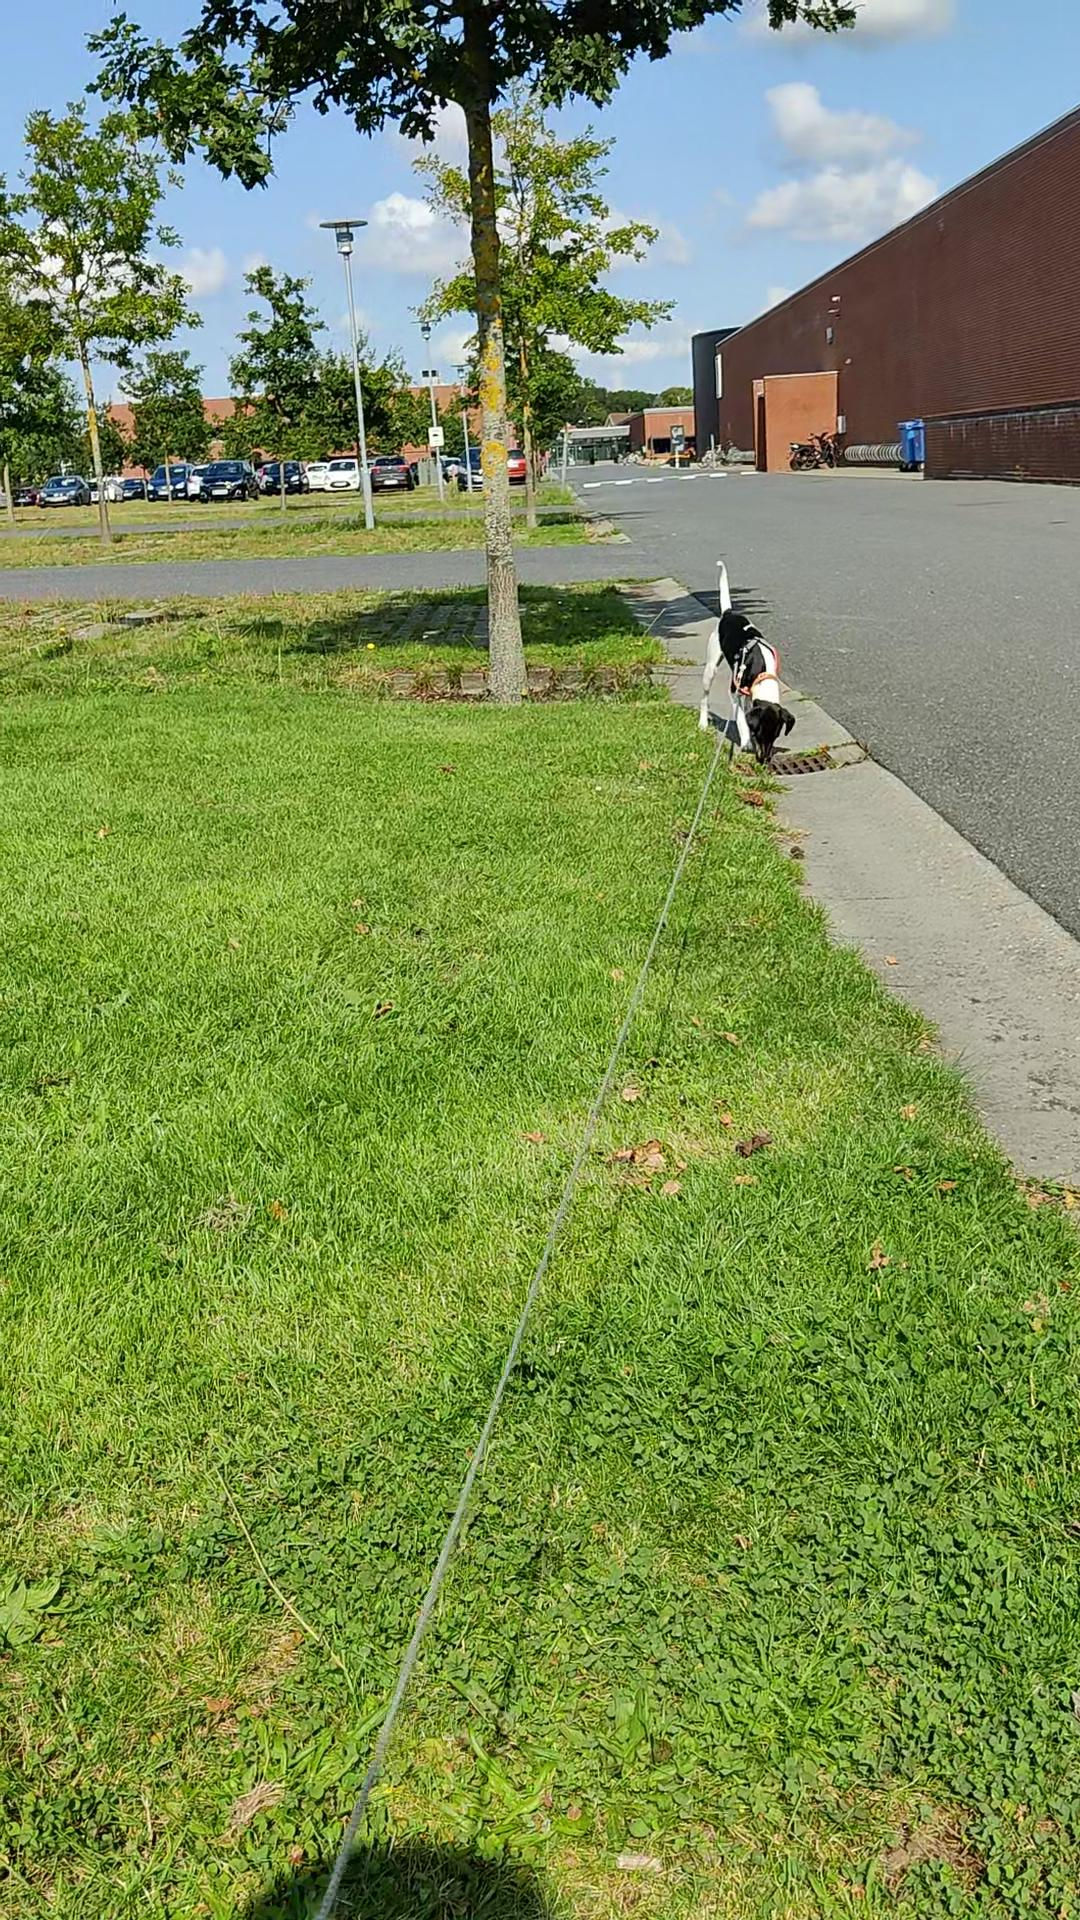Dog: (690, 556, 798, 764)
